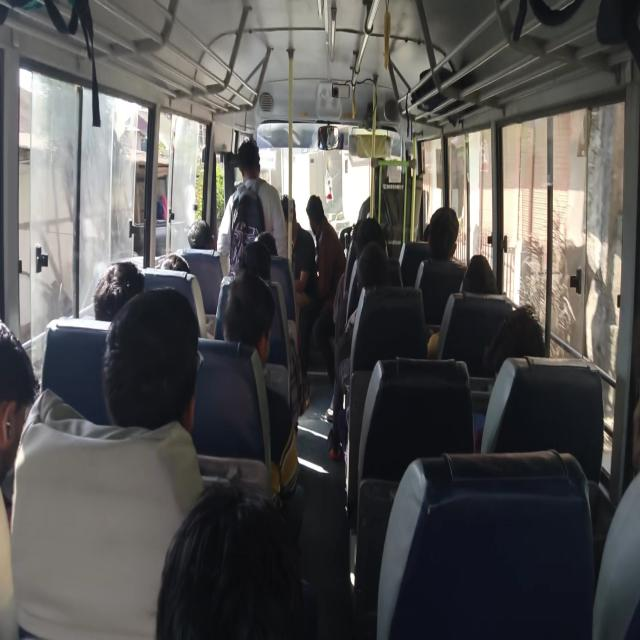person: (150, 488, 345, 640), (105, 302, 232, 448), (0, 361, 52, 499), (218, 270, 300, 354), (458, 255, 527, 302), (499, 291, 543, 364), (230, 226, 280, 287), (434, 212, 472, 278), (357, 235, 389, 305), (184, 208, 223, 262), (154, 243, 196, 288), (97, 259, 142, 299), (354, 213, 396, 252), (260, 235, 296, 276), (302, 194, 332, 234), (425, 202, 456, 240), (235, 140, 262, 168), (276, 189, 294, 221)
